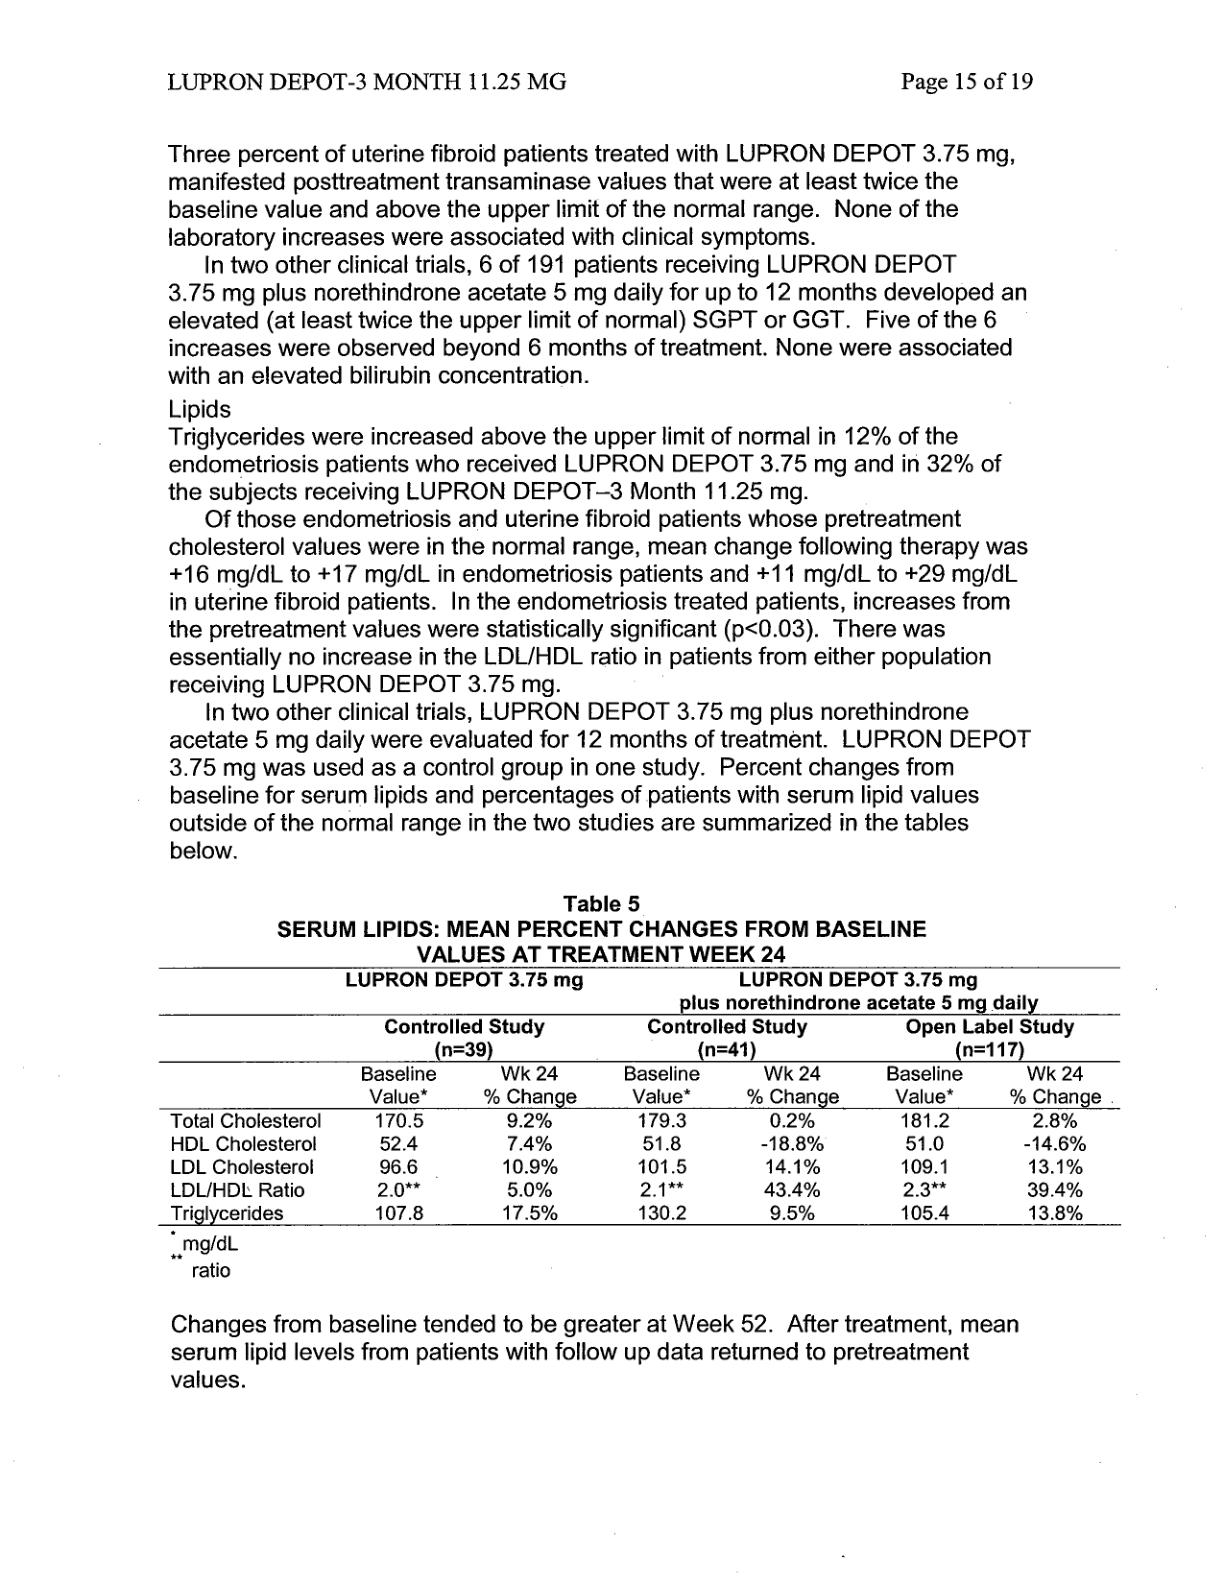partial_lined_merged_cells: (158, 966, 1122, 1229)
